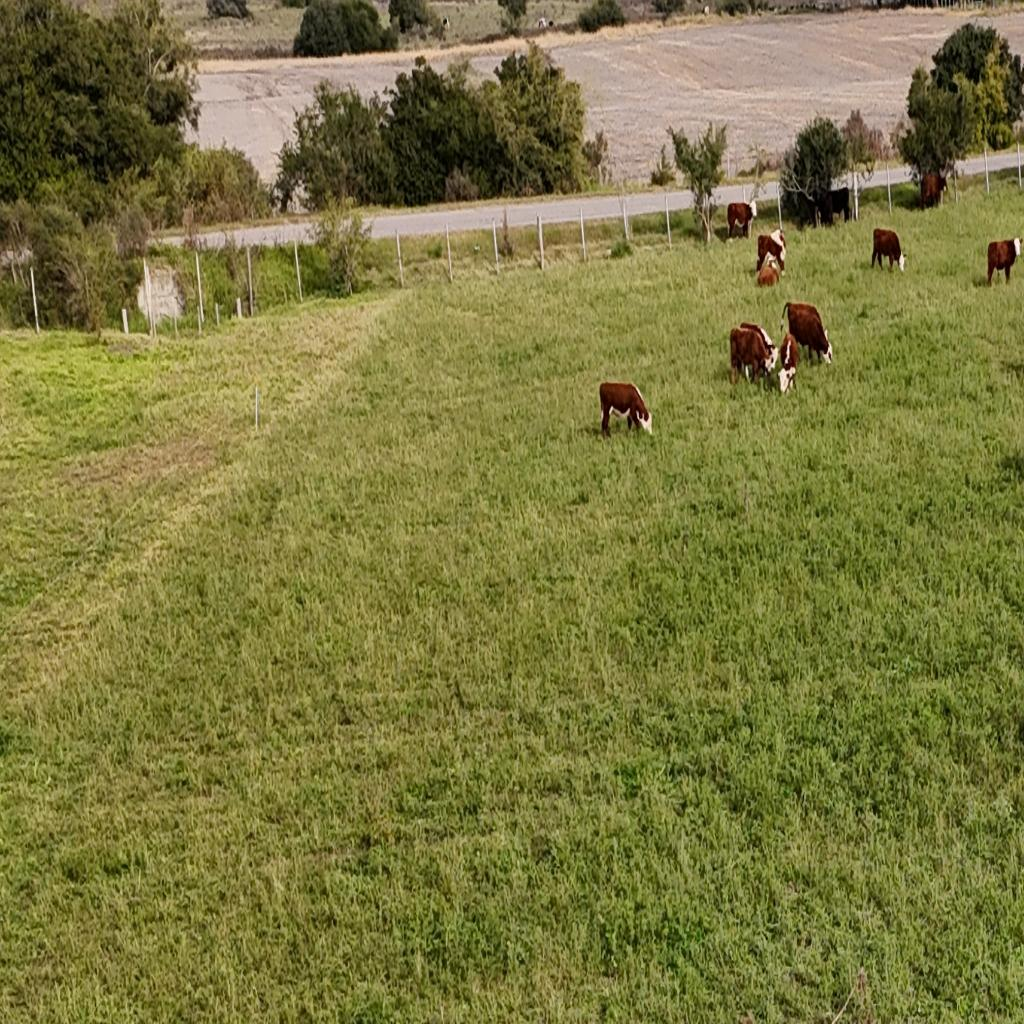cow: (783, 301, 833, 367), (726, 325, 773, 393), (599, 382, 653, 440), (986, 238, 1022, 286), (809, 187, 850, 229), (872, 228, 908, 272), (778, 333, 800, 393), (755, 228, 787, 268), (728, 200, 758, 240), (920, 172, 950, 210), (756, 259, 781, 290), (910, 172, 924, 208)
